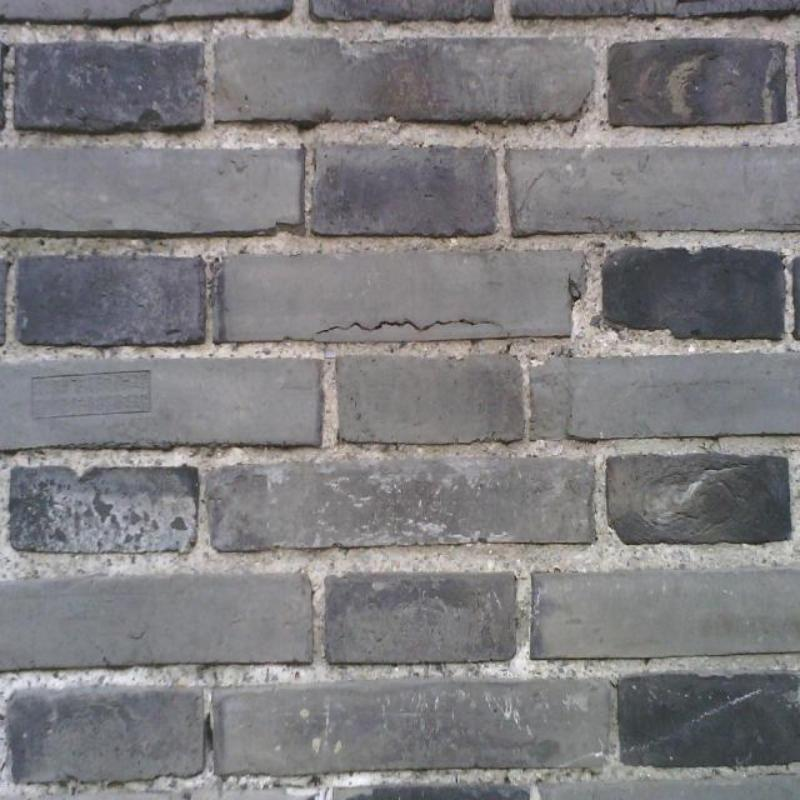pothole: (283, 318, 505, 341), (514, 172, 543, 218), (205, 712, 214, 750)
